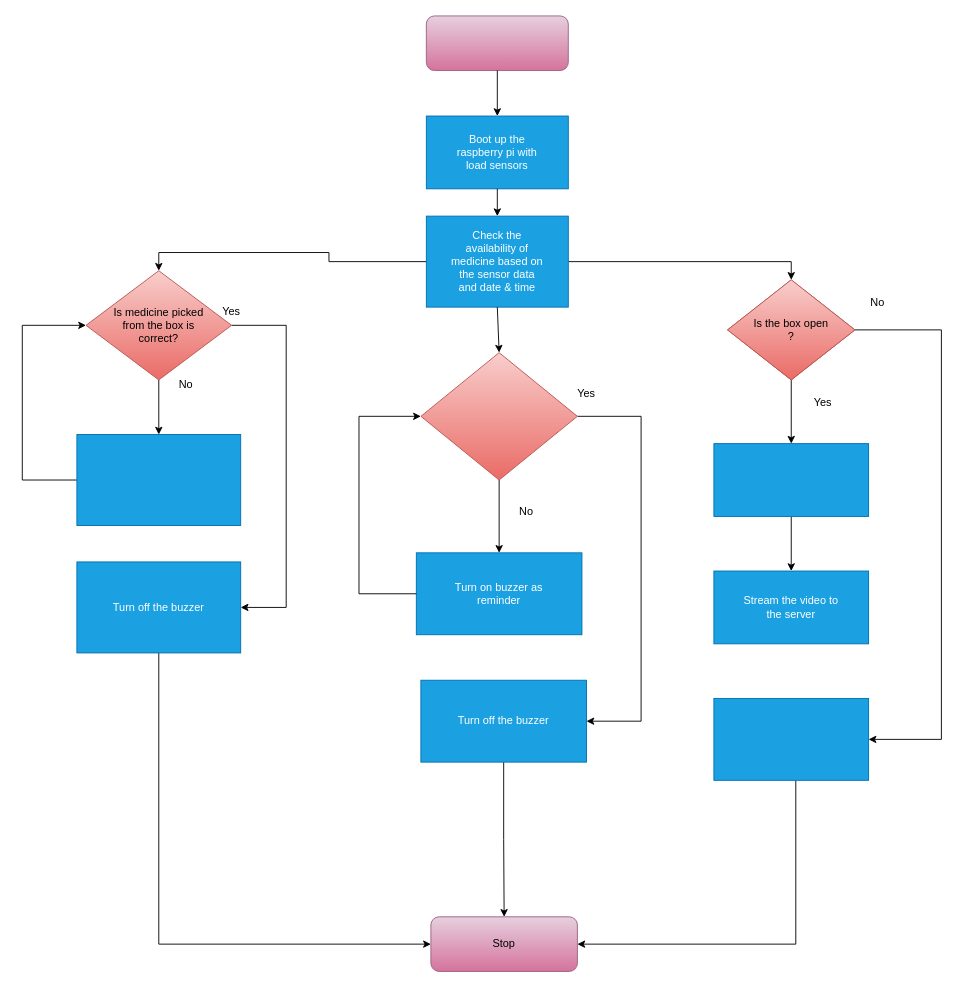
The diagram is 965 pixels wide and 987 high, and some of its shapes have lost their labels. Each missing label, with the centre of its shape:
"Is the medicince taken on time or immediately ?" belongs at (498,416).
"Start" belongs at (496,43).
"Turn of the camera and stream" belongs at (791,739).
"Turn on the buzzer to indicate the wrong choice" belongs at (158,480).
"Turn on the camera" belongs at (791,479).
